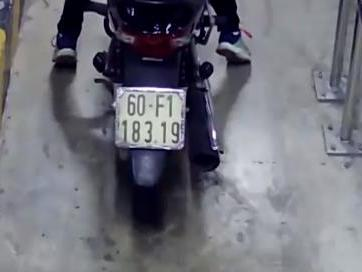num_plate: (113, 86, 189, 152)
